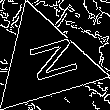N_W: (15, 36, 76, 89)
